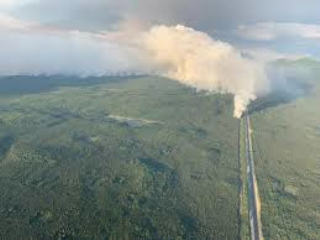smoke: (144, 24, 285, 120)
